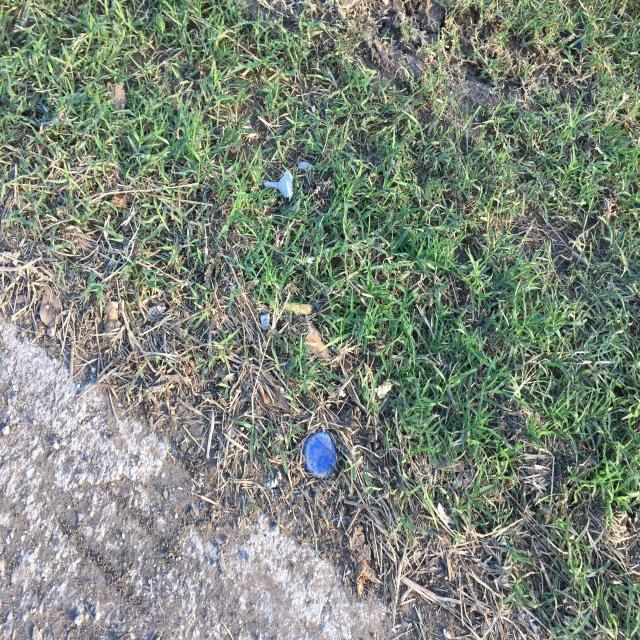litter: (302, 427, 338, 476), (264, 168, 295, 203)
